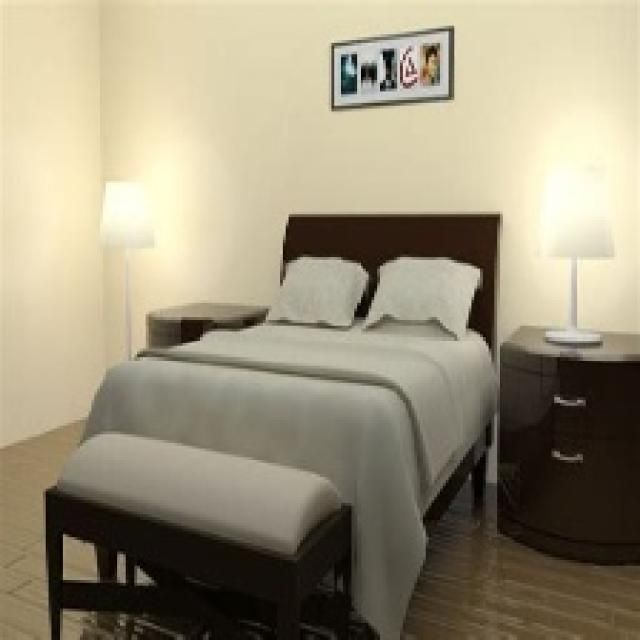Bed: (77, 212, 500, 637)
